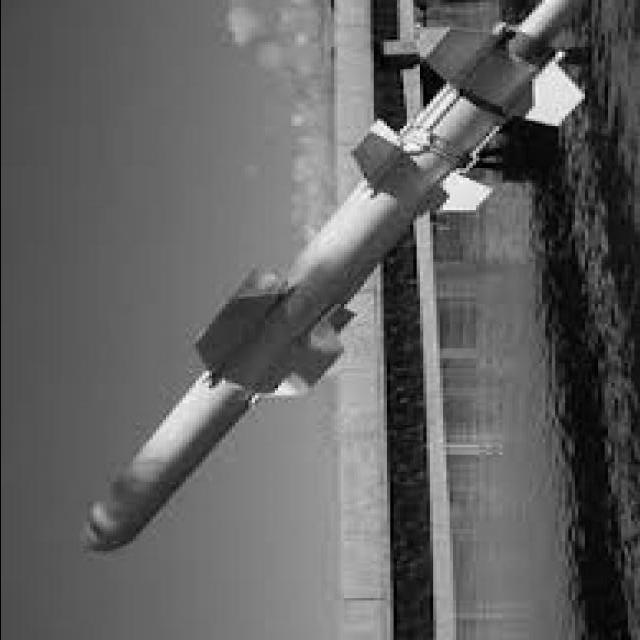missile: (44, 0, 625, 585)
